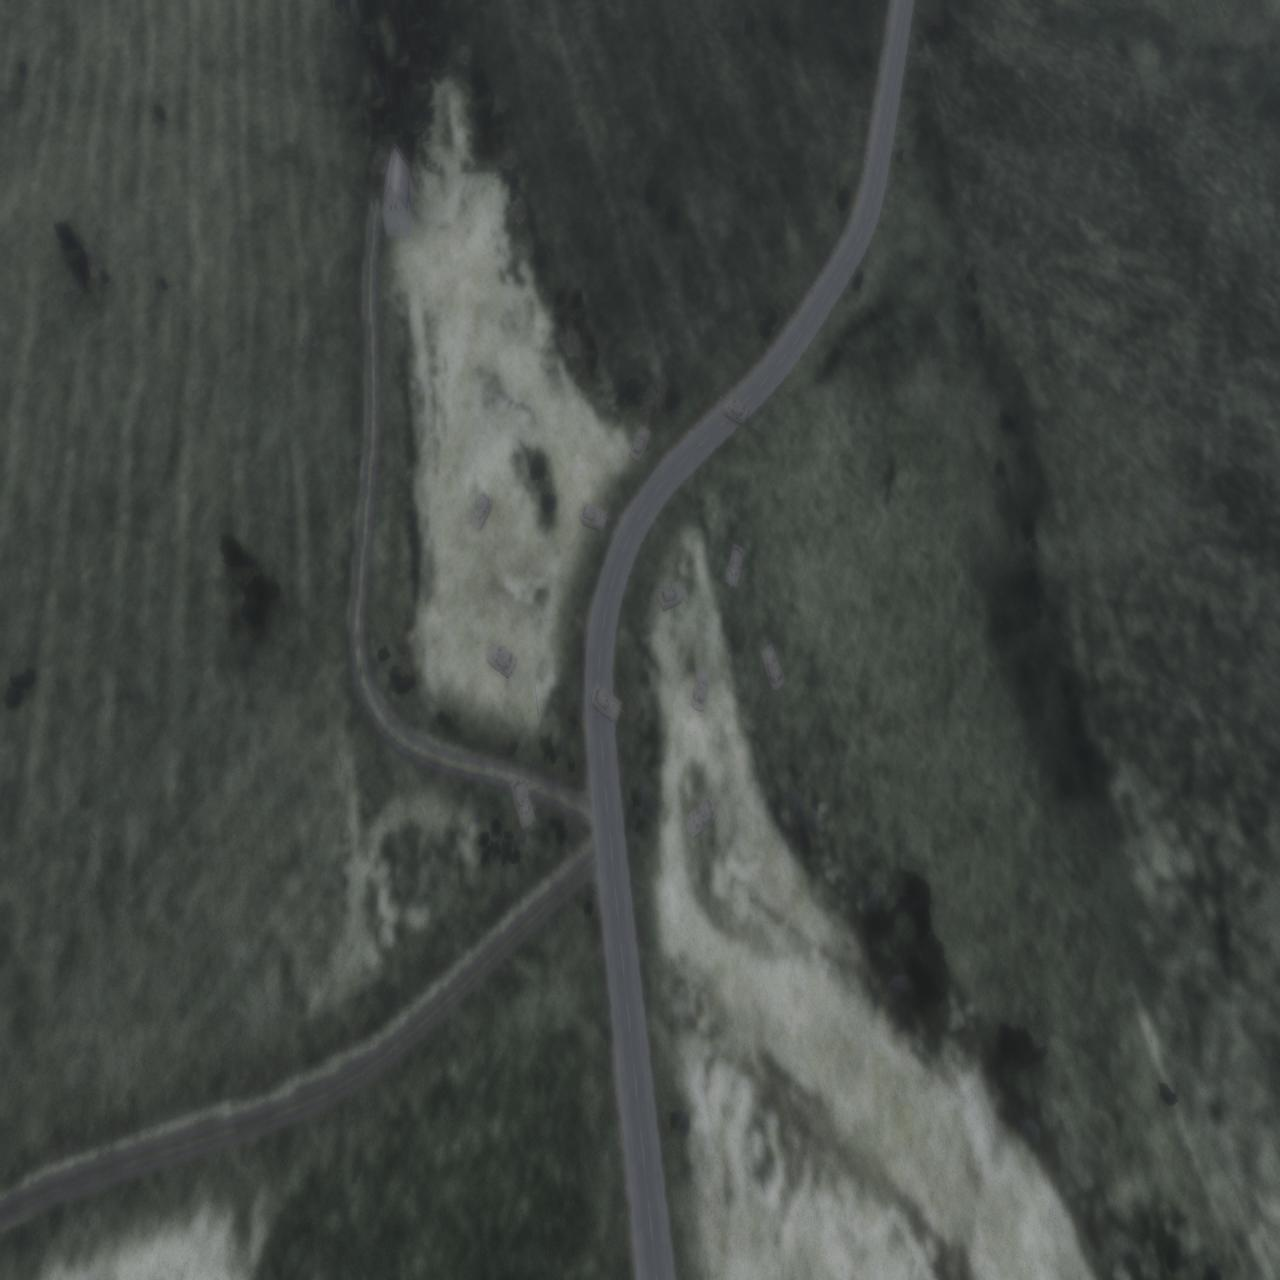MIL_Veh: (761, 641, 788, 696), (685, 797, 716, 843), (511, 777, 537, 832), (592, 682, 624, 727), (486, 641, 517, 681), (655, 578, 688, 614), (720, 394, 753, 429), (471, 490, 496, 532), (692, 663, 710, 717), (580, 501, 611, 533), (724, 543, 744, 591), (629, 425, 653, 461)
